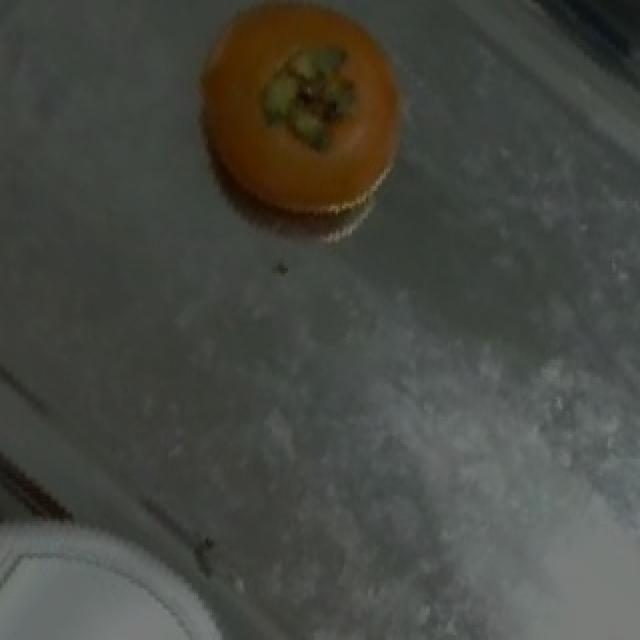Fruit: (172, 3, 430, 243)
